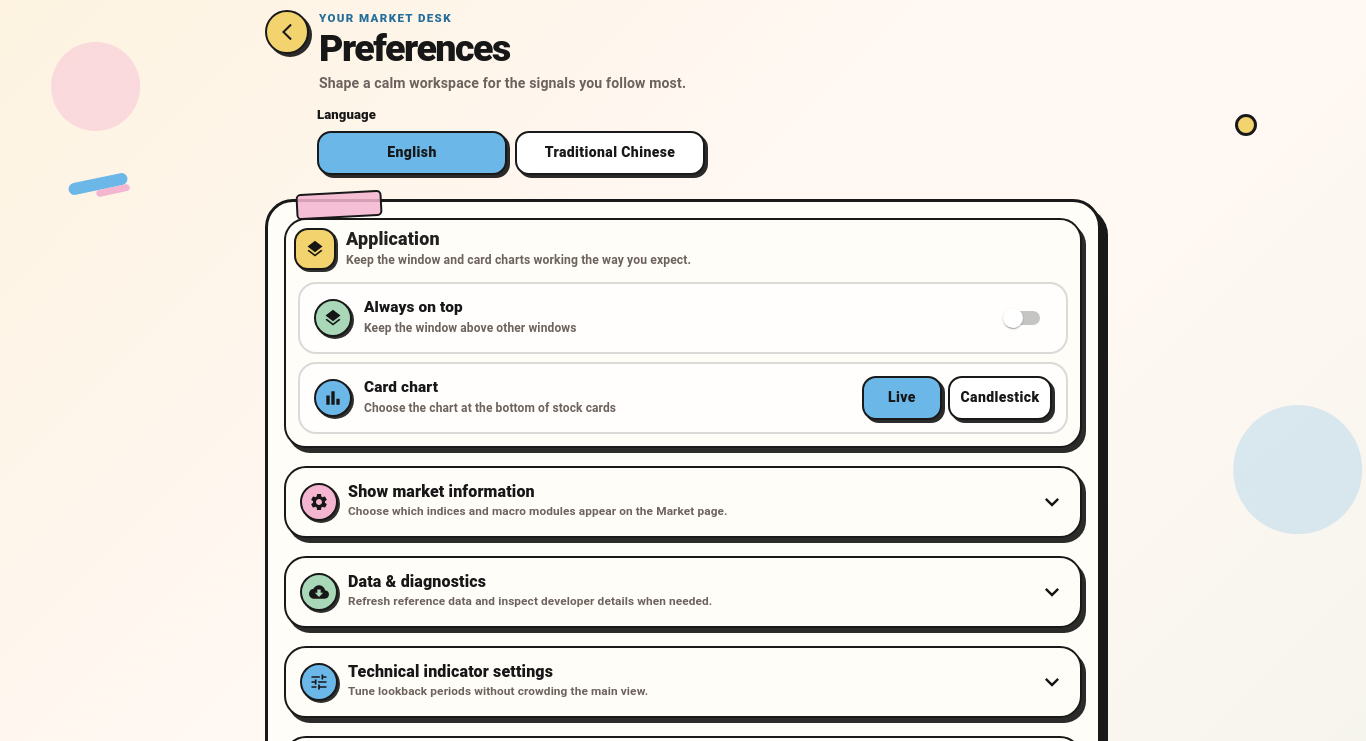
Test: Settings page › keeps the capacity alert visible while the local backup is oversized
Click the button "Data & diagnostics": (683, 592) [286,558,1080,626]
(page scrolled)
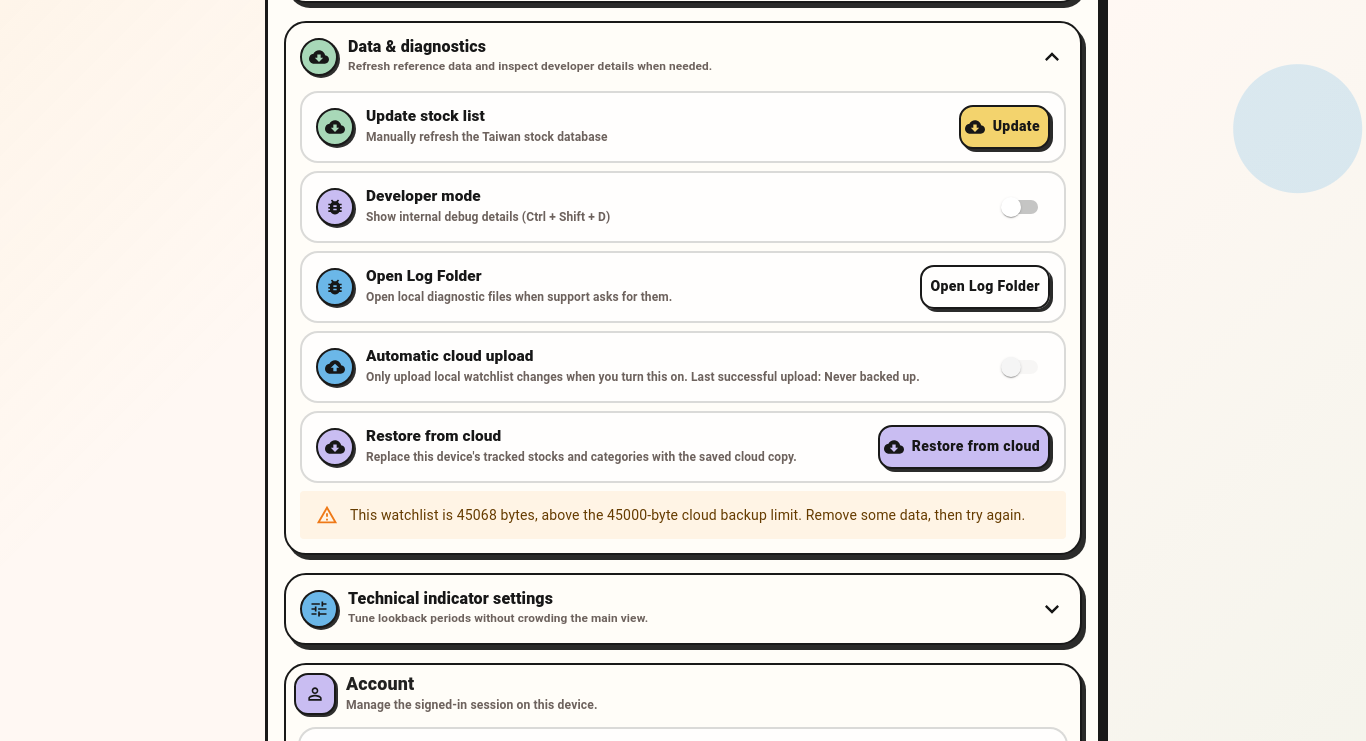
Expected: the message shows "45000", [350,506,1025,522]
Expected: the switch named "Automatic cloud upload" is disabled, [1001,356,1021,376]
